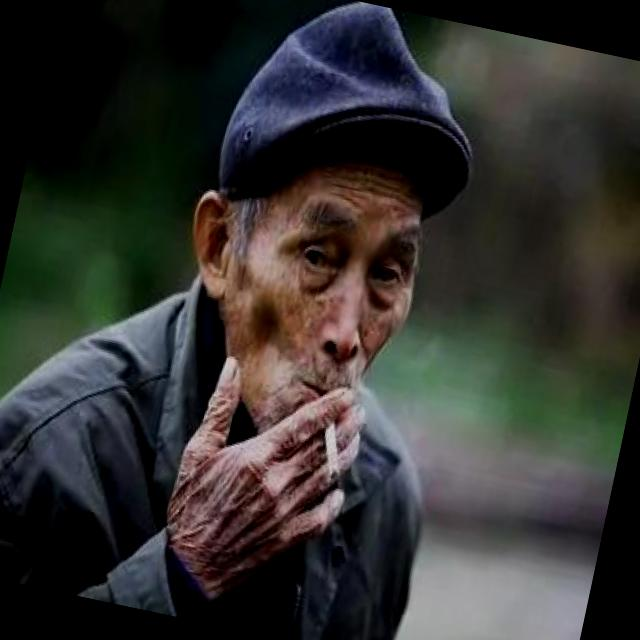cigarette: (276, 344, 396, 516)
